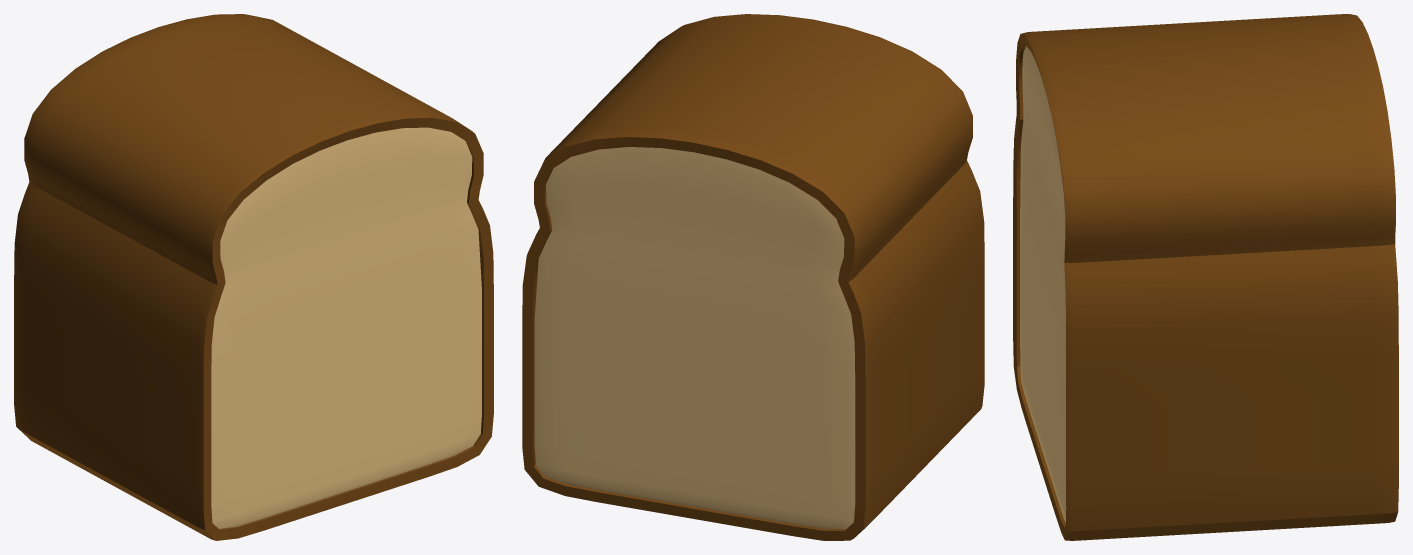
The model's file is Pane.fbx.
3 renders of one model, left to right at view 1: azimuth 30°, elevation 25°; view 2: azimuth 150°, elevation 25°; view 3: azimuth 270°, elevation 25°, orthographic. The views are drawn at different scales.
Visible parts, largest first — view 1: Bread.001; view 2: Bread.001; view 3: Bread.001.
Part boxes in pixels (x1,y1,x2,y2): Bread.001: (14,14,493,540); Bread.001: (522,14,984,540); Bread.001: (1013,14,1398,540).
Bounding box in the file's own units: 35.17 × 35.89 × 30.82.
